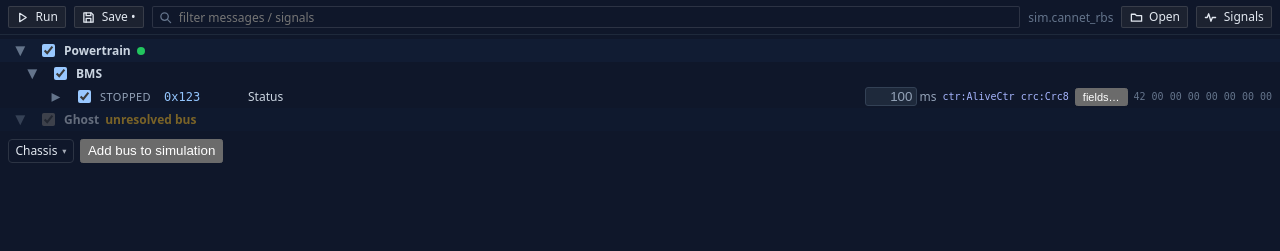
Test: RbsPanel (thin view over the host RBS model) › an enum signal's labels are fetched on the bus the element resolved to
The image size is (1280, 251).
Click the button named "toggle 0x123".
click(56, 96)  # box x1=44 y1=87 x2=68 y2=105
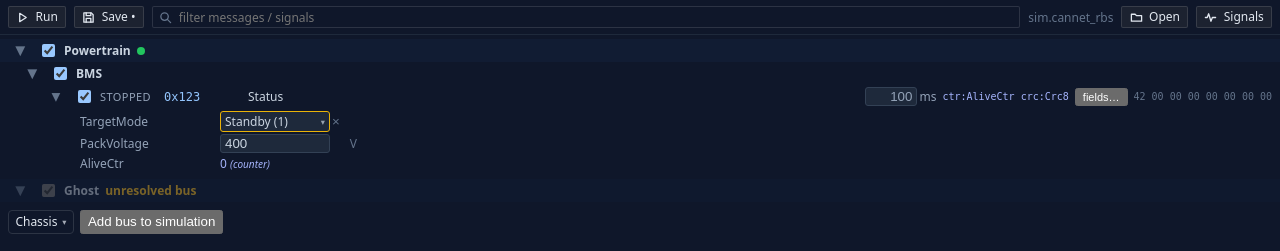
Expected: the dropdown named "TargetMode value" is shown, x1=220 y1=111 x2=330 y2=132
